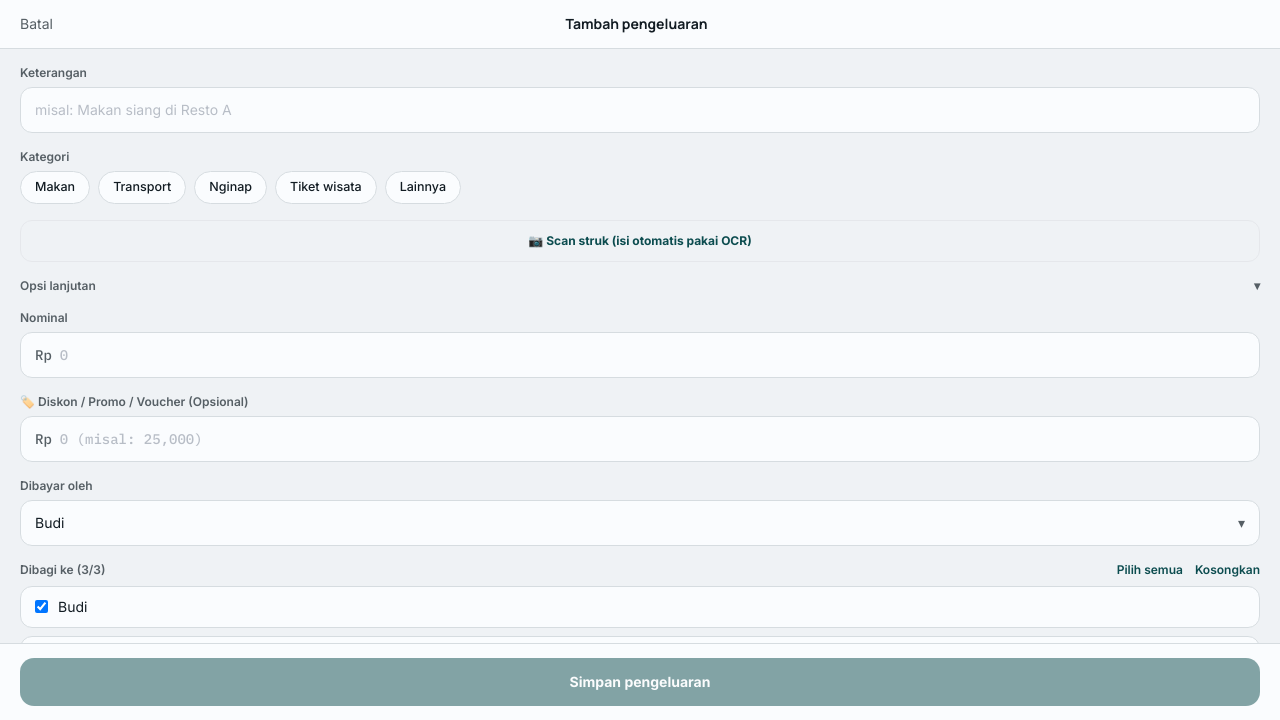
Test: AddEditSubTripSheet — create mode › "Kosongkan" then "Pilih semua" round-trips the participant selection
The image size is (1280, 720).
Click the button "Kosongkan".
click(1227, 570)  # box [1195,562,1260,578]
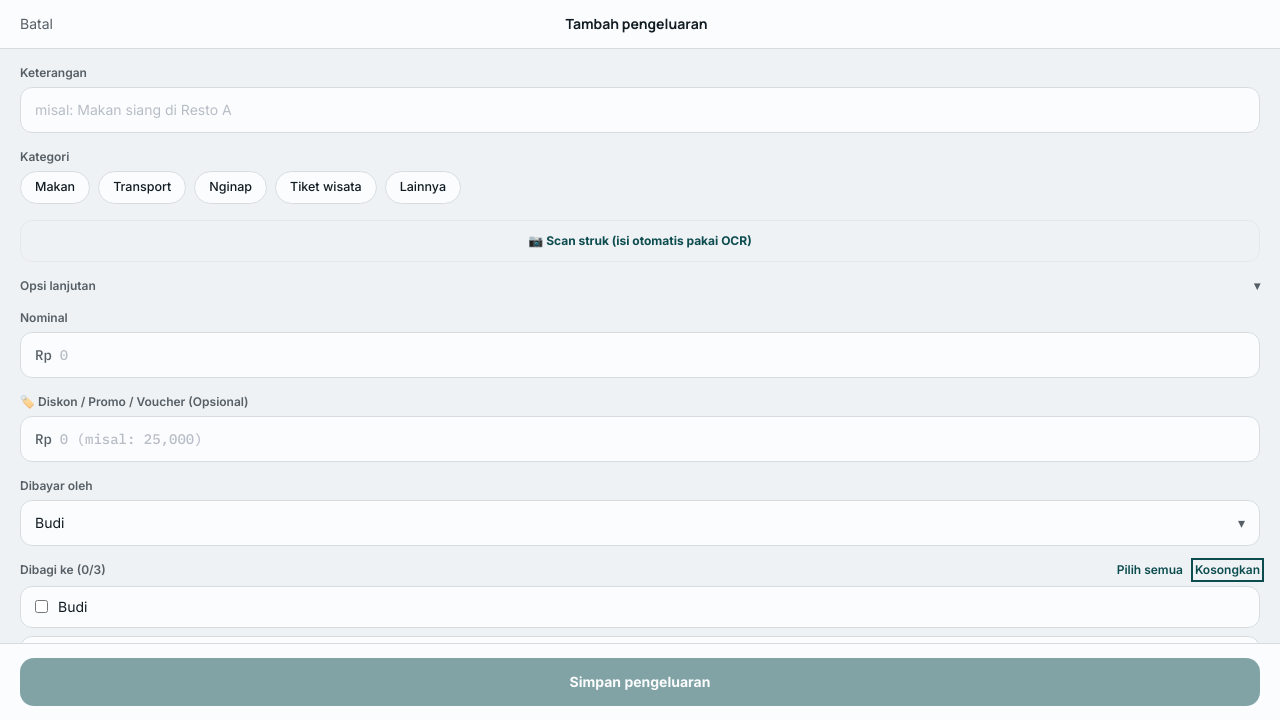
expect the text "Dibagi ke (0/3)" is shown: met, box [20,562,106,578]
Click the button "Pilih semua".
click(1150, 570)  # box [1117,562,1183,578]
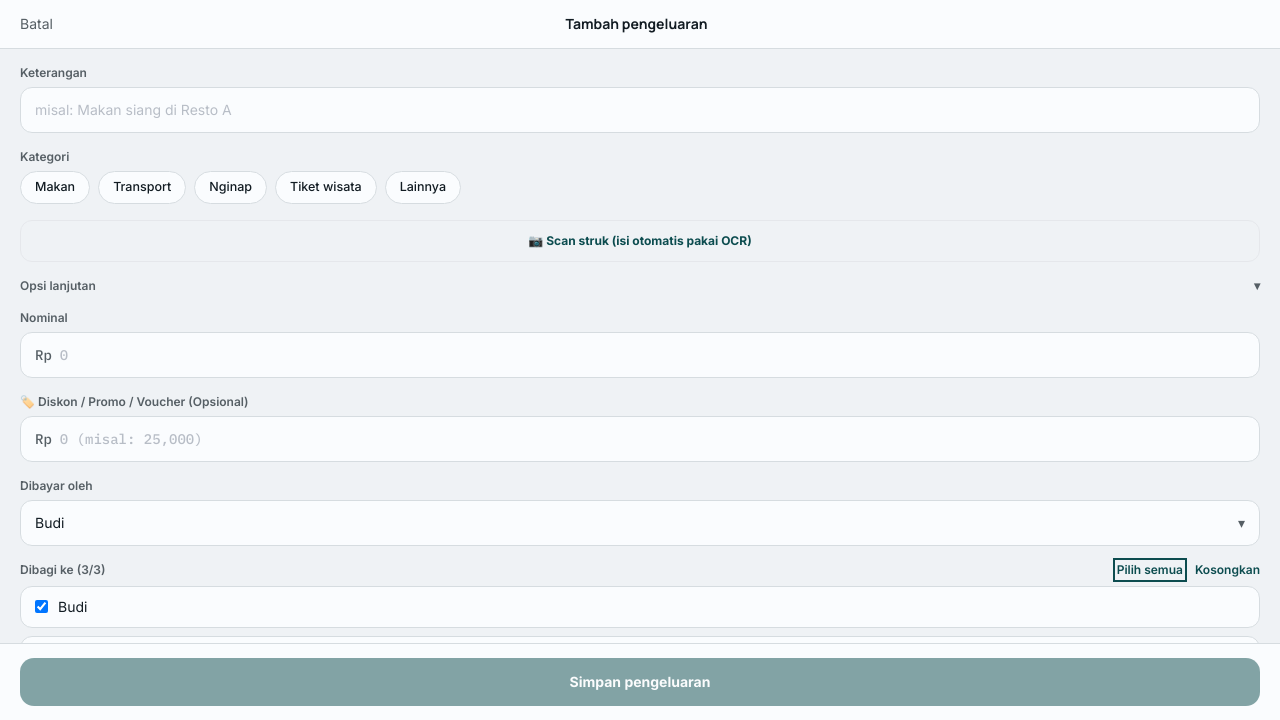
expect the text "Dibagi ke (3/3)" is shown: met, box [20,562,106,578]
